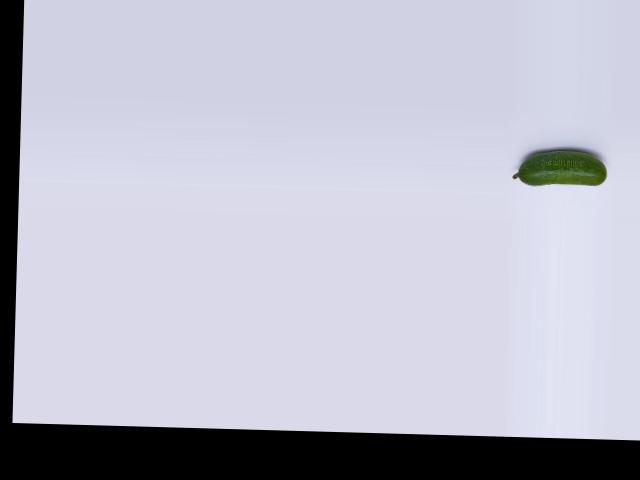cucumber: (512, 148, 608, 187)
